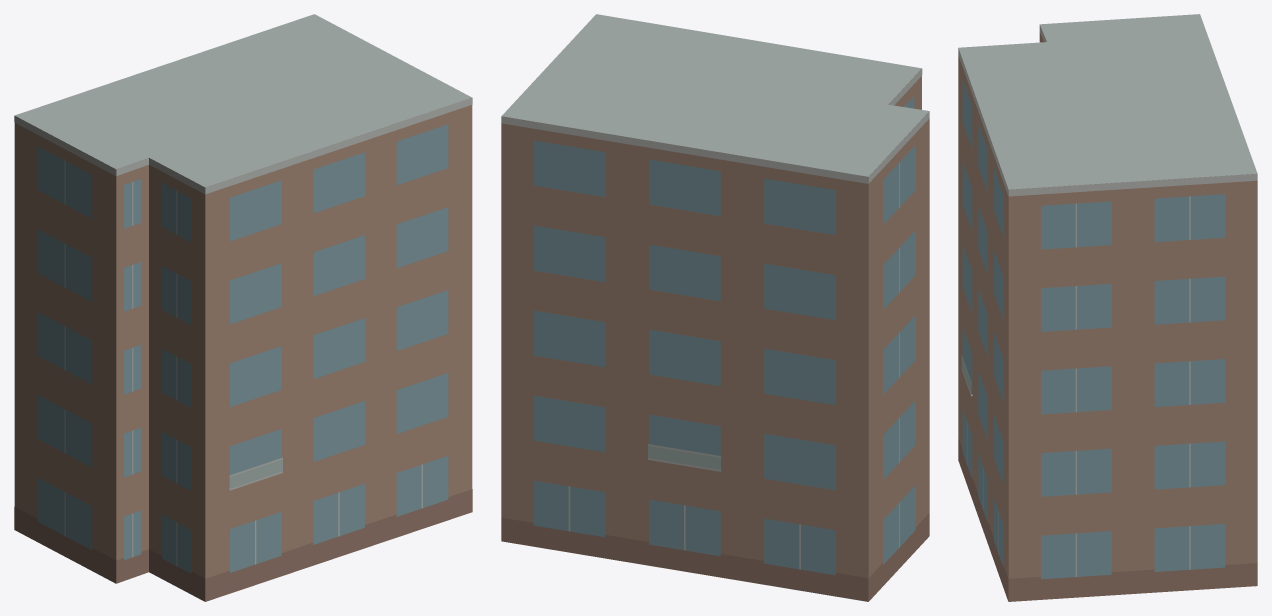
File: survey-upis-32904834.glb
The picture shows the model from 3 angles, left to right: view 1: azimuth 30°, elevation 25°; view 2: azimuth 150°, elevation 25°; view 3: azimuth 270°, elevation 25°; orthographic projection. The views are drawn at different scales.
Parts seen in each view (by area): view 1: survey-upis-32904834.tmp; view 2: survey-upis-32904834.tmp; view 3: survey-upis-32904834.tmp.
Boxes of the visible parts, x1=… form: survey-upis-32904834.tmp: x1=14, y1=14, x2=472, y2=601; survey-upis-32904834.tmp: x1=501, y1=14, x2=929, y2=601; survey-upis-32904834.tmp: x1=958, y1=14, x2=1257, y2=601.
Bounding box in the file's own units: 13.3 × 14.55 × 9.59.
